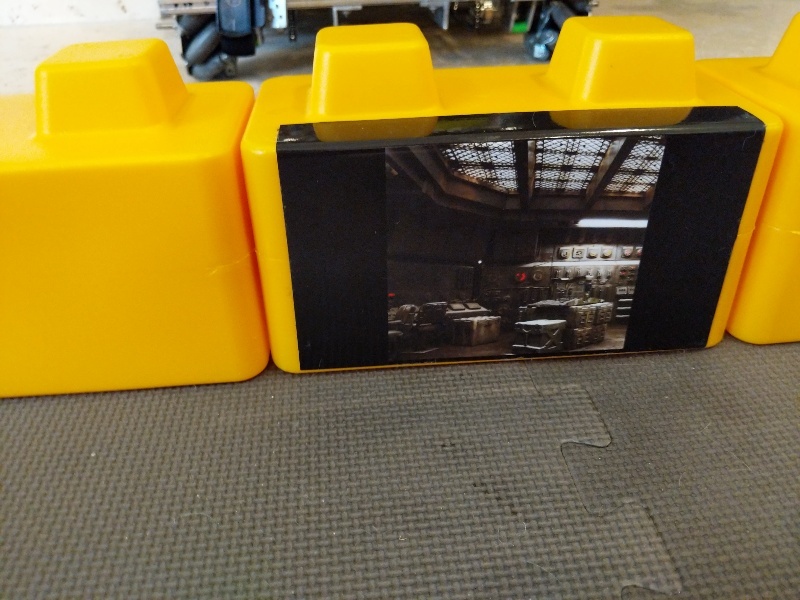Skystone: (262, 101, 772, 374)
